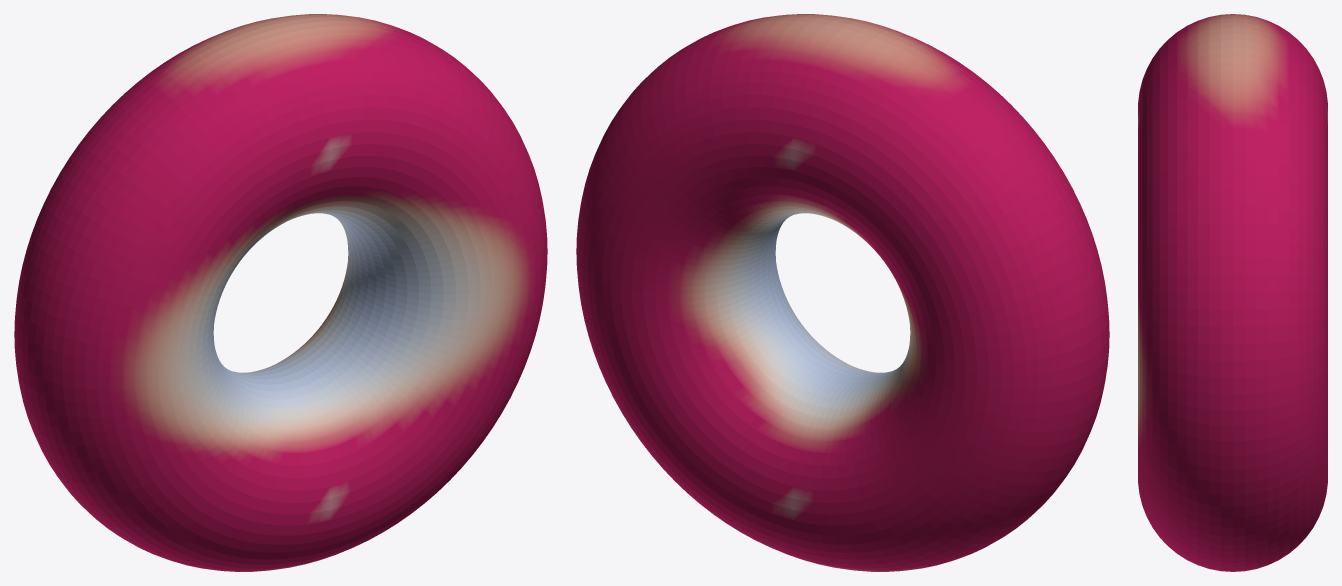
3 views of the same model, side by side, from view 1: azimuth 30°, elevation 25°; view 2: azimuth 150°, elevation 25°; view 3: azimuth 270°, elevation 25° (orthographic). The views are drawn at different scales.
Visible parts, largest first — view 1: world; view 2: world; view 3: world.
Part boxes in pixels (x1,y1,x2,y2): world: [14, 14, 547, 571]; world: [576, 14, 1109, 571]; world: [1138, 14, 1327, 571].
Size of the model in its own units: 29.33 by 29.33 by 9.98.
